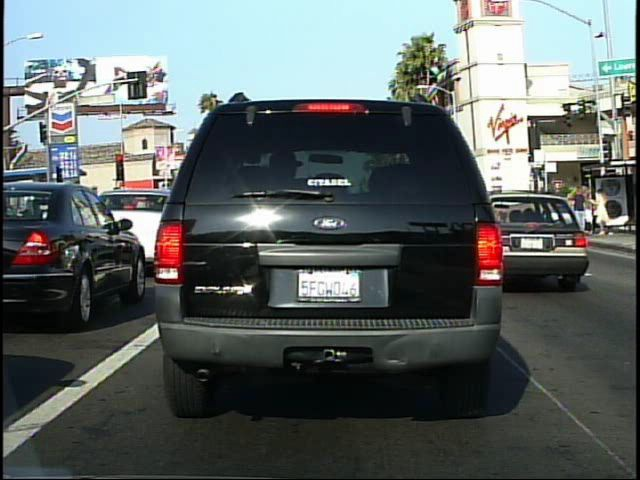person: (591, 185, 614, 237), (569, 184, 590, 239)
